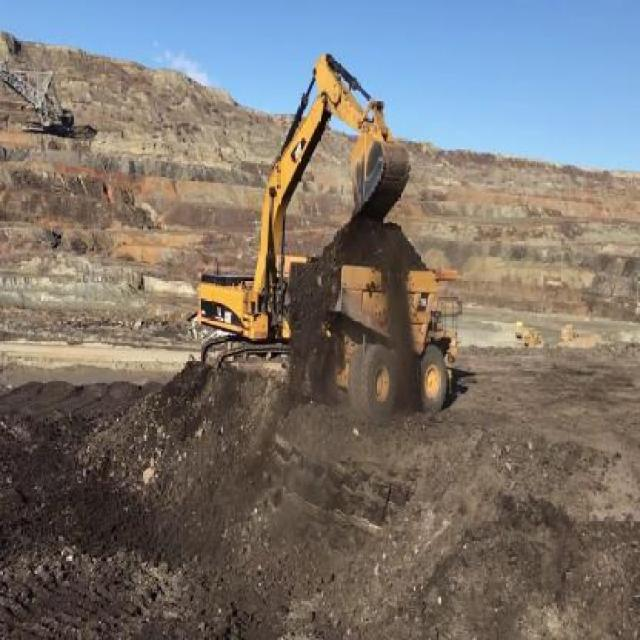dump_truck: (290, 215, 458, 413)
excavator: (190, 52, 415, 370)
